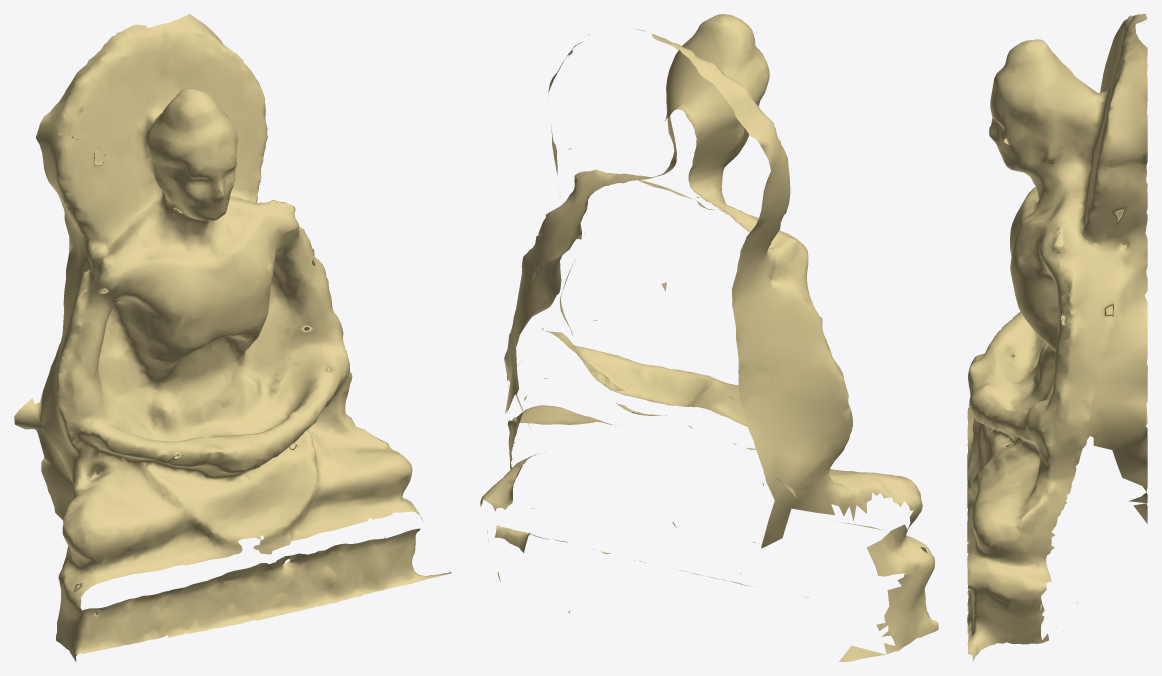
Rendered from buddha-fasting.glb.
The picture shows the model from 3 angles, left to right: view 1: azimuth 30°, elevation 25°; view 2: azimuth 150°, elevation 25°; view 3: azimuth 270°, elevation 25°; orthographic projection. The views are drawn at different scales.
Size of the model in its own units: 0.585 by 0.8073 by 0.2466.
